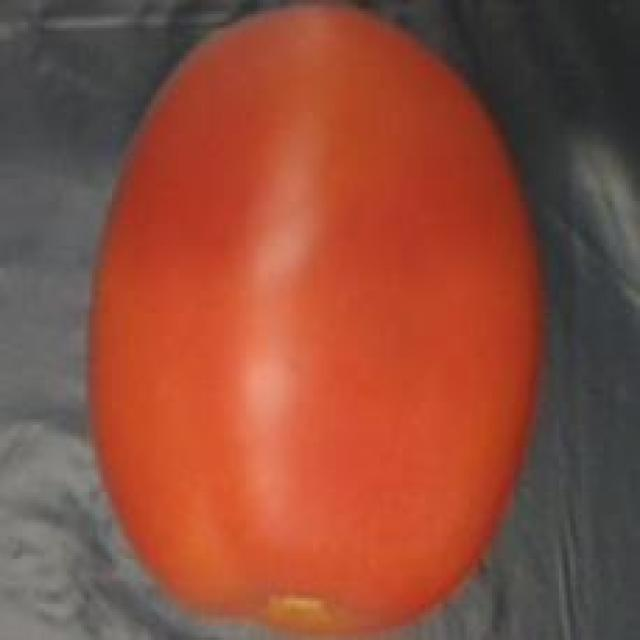ripe tomato: (70, 0, 553, 640)
